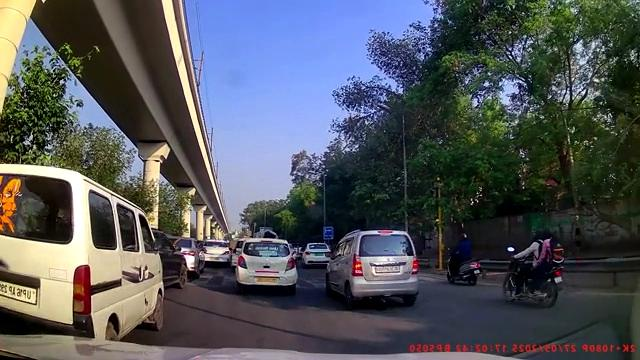motorcycle_with_helmet: (445, 232, 482, 287)
passenger_with_helmet: (501, 227, 566, 308)
